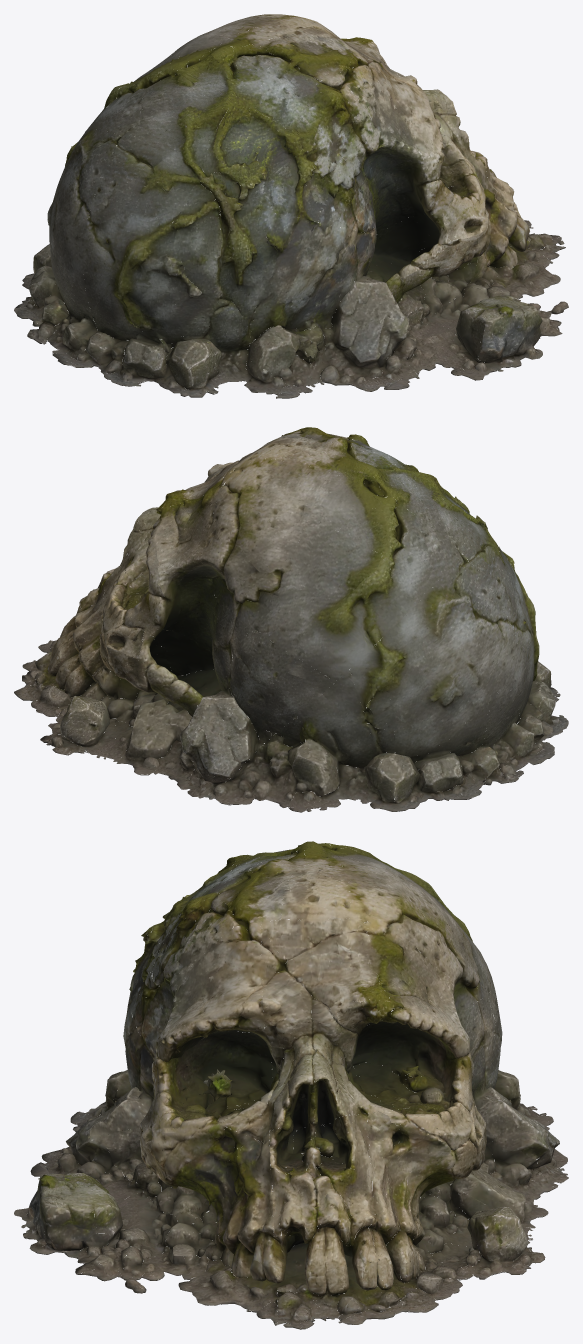
Rendered from giant-skull-tripo.glb.
3 views of the same model, one above another, from view 1: azimuth 30°, elevation 25°; view 2: azimuth 150°, elevation 25°; view 3: azimuth 270°, elevation 25° (orthographic). The views are drawn at different scales.
Parts seen in each view (by area): view 1: tripo_node_3df4c88b-cedf-464e-9b20-577ae9961252; view 2: tripo_node_3df4c88b-cedf-464e-9b20-577ae9961252; view 3: tripo_node_3df4c88b-cedf-464e-9b20-577ae9961252.
Boxes of the visible parts, x1,y1,x2,y2 form: tripo_node_3df4c88b-cedf-464e-9b20-577ae9961252: (14,14,568,398); tripo_node_3df4c88b-cedf-464e-9b20-577ae9961252: (14,427,568,812); tripo_node_3df4c88b-cedf-464e-9b20-577ae9961252: (14,841,568,1329).
Size of the model in its own units: 1 by 0.5136 by 0.8332.
1 material, 1 textured.
